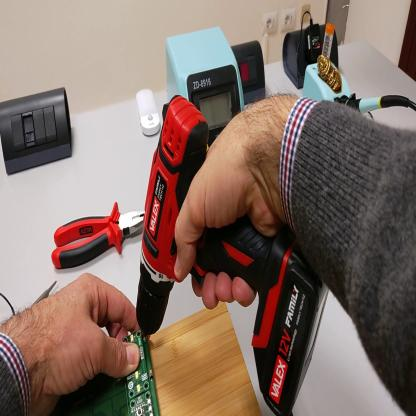electric screwdriver: (136, 95, 329, 351)
hand: (173, 104, 289, 310), (22, 275, 143, 414)
low voltage board: (50, 330, 160, 415)
oscilloscope probe tip: (32, 280, 58, 307)
pliers: (52, 210, 146, 270)
socket: (283, 20, 339, 90), (232, 39, 267, 108)
welder base: (305, 22, 363, 110)
welder probe tip: (355, 93, 410, 119)
welder station: (164, 31, 246, 148)
working area: (149, 303, 261, 416)
